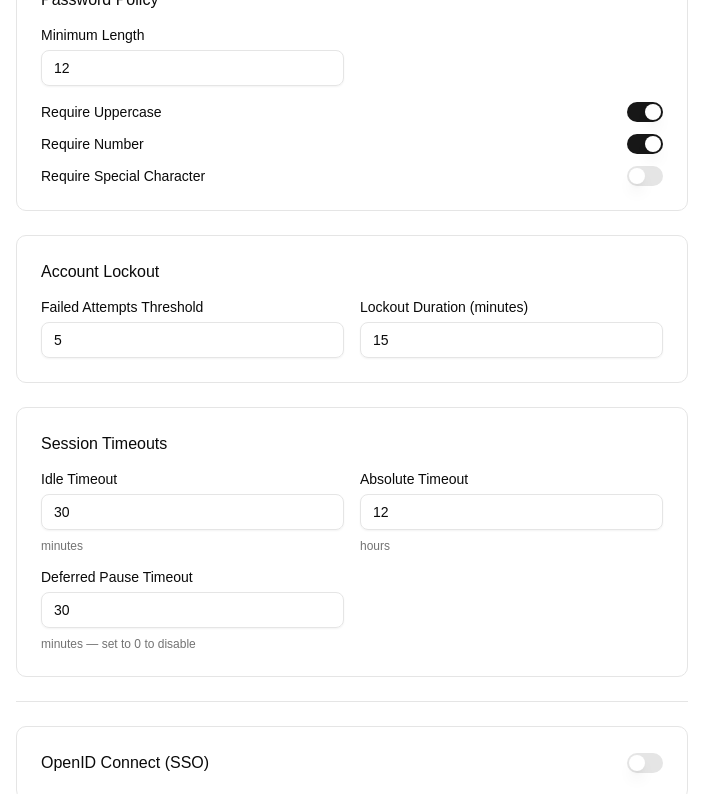
Test case: AuthConfigPage deferred-pause timeout (W4, ADR-0009) › AuthConfigPage_ShouldKeepSaveDisabled_UntilFormDirtied
(page scrolled)
Replace the text in the number field with test id "auth-config-pendingPauseTimeout" with "60" at (192, 610), box [41,592,344,628]
(page scrolled)
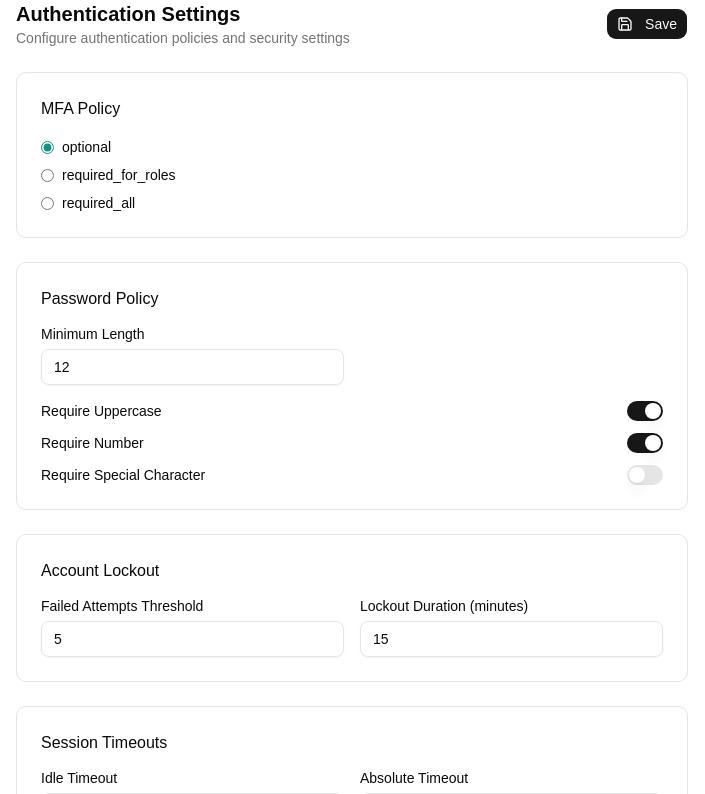
Now the button with test id "auth-config-save" is enabled, box [606,8,688,40]
